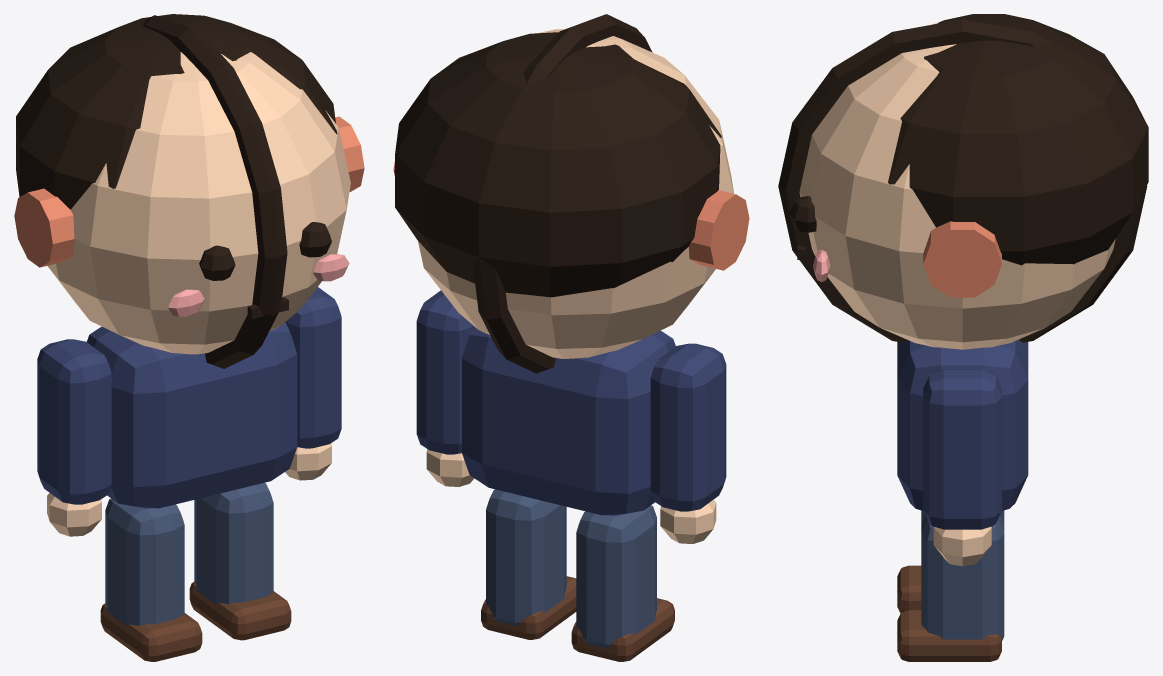
The model's file is kar_penjaga_warnet.fbx.
The picture shows the model from 3 angles, left to right: view 1: azimuth 30°, elevation 25°; view 2: azimuth 150°, elevation 25°; view 3: azimuth 270°, elevation 25°; orthographic projection.
Visible parts, largest first — view 1: kar_penjaga_warnet; view 2: kar_penjaga_warnet; view 3: kar_penjaga_warnet.
Boxes of the visible parts, <box> form: kar_penjaga_warnet: <box>14,14,364,661</box>; kar_penjaga_warnet: <box>393,14,749,661</box>; kar_penjaga_warnet: <box>778,14,1148,661</box>.
Bounding box in the file's own units: 84 × 154 × 84.86.
Materials: 1 (1 with a texture image).
